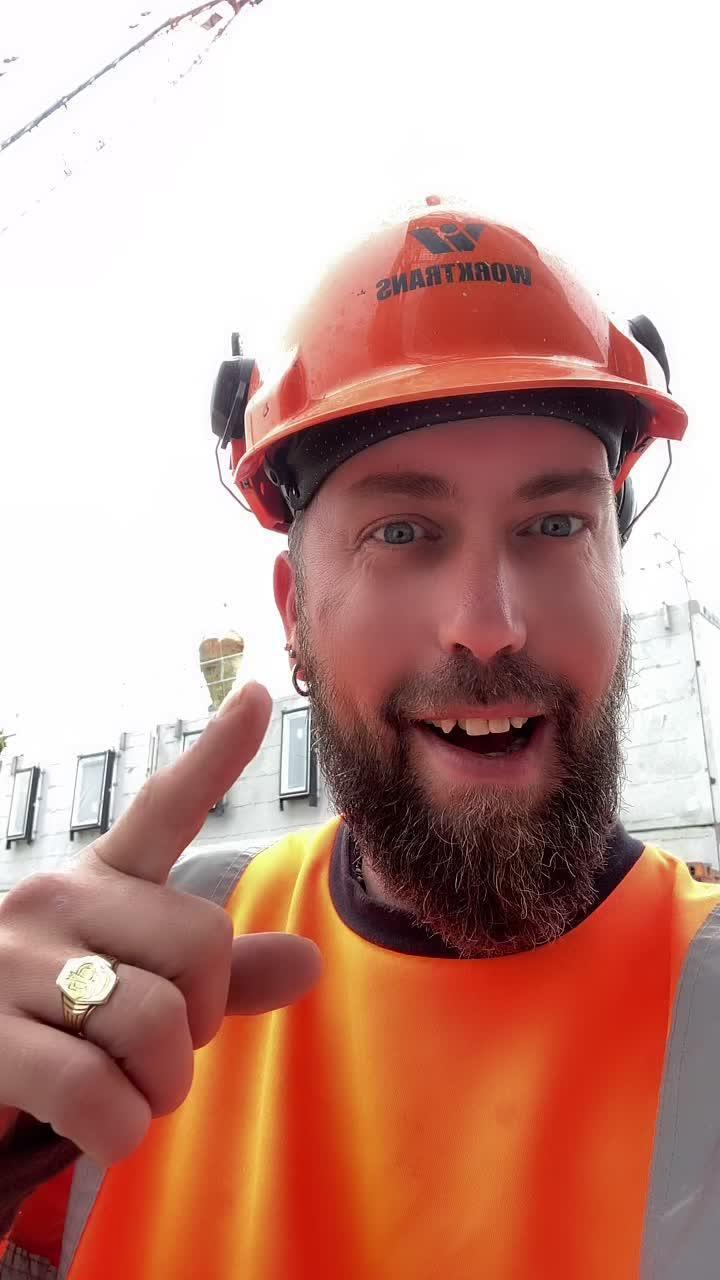helmet: (233, 201, 689, 528)
